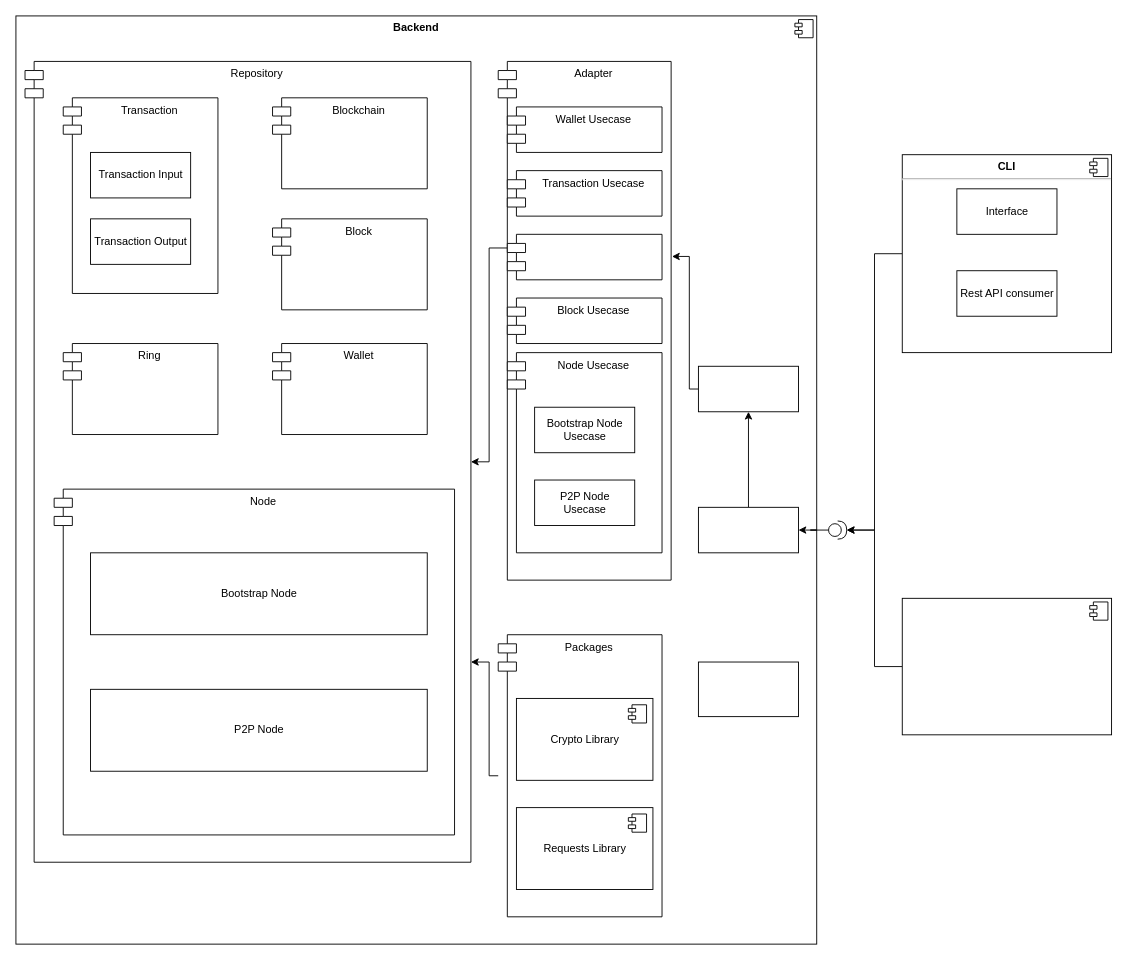
Image size: 1127x960. Some labels were removed from this diagram. The shapes that lost their labels are listed below. From the top down, each one's centre as x and y in pixels, then its label:
point (584, 256): Blockchain Usecase
point (748, 388): routes
point (748, 529): app
point (1006, 666): Tester
point (748, 689): config
